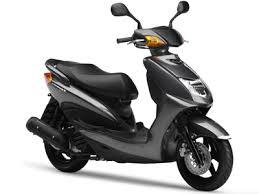motorcycle: (22, 0, 236, 193)
